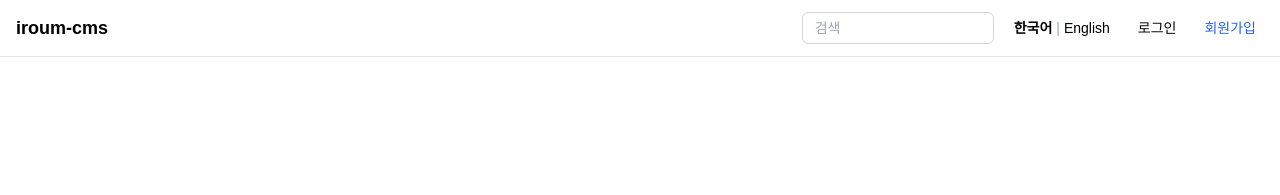
Test: PublicHeader 검색 히스토리 — D-04 › focus + 빈 입력 시 히스토리 드롭다운 표시
The image size is (1280, 195).
Focus the search field with test id "header-search-input" at (898, 28), box [802,12,994,44]
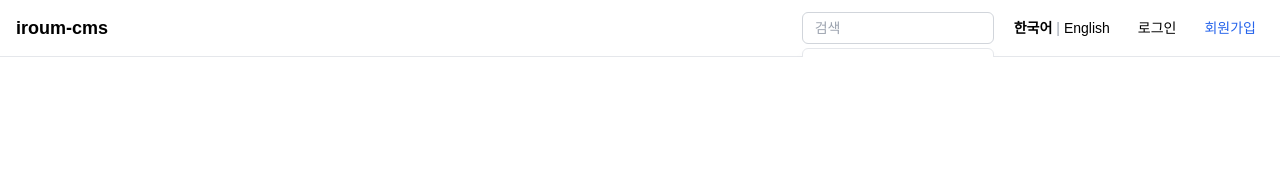
Now the list with test id "search-history-dropdown" is shown, box [802,48,994,178]
